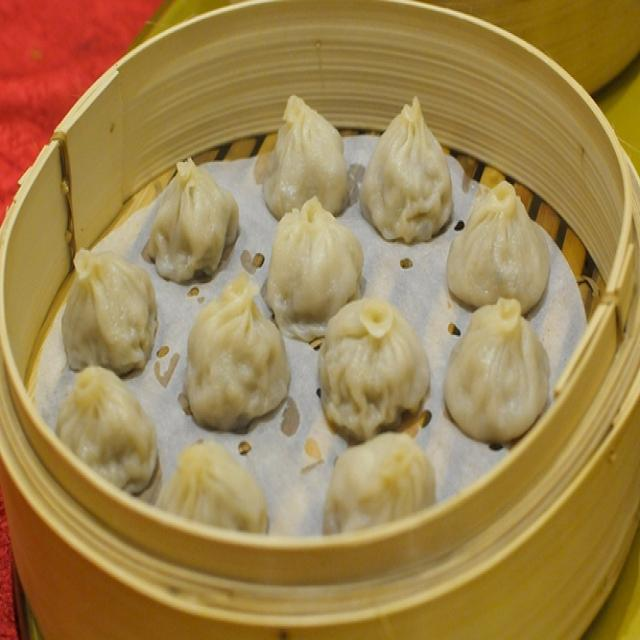带馅早点: (9, 39, 617, 580)
